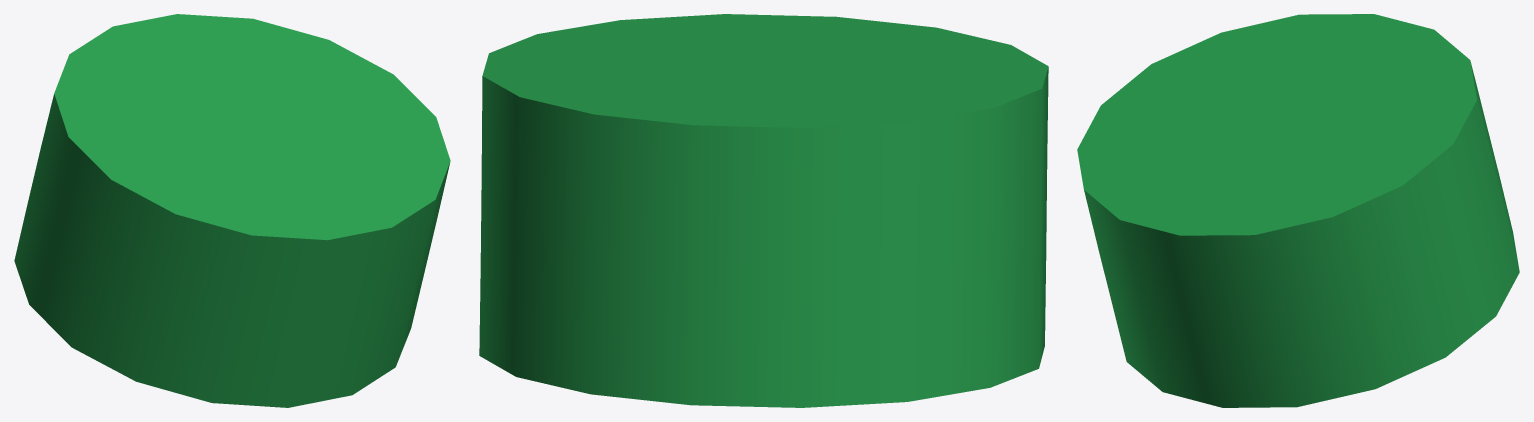
File: button3.obj
The picture shows the model from 3 angles, left to right: view 1: azimuth 30°, elevation 25°; view 2: azimuth 150°, elevation 25°; view 3: azimuth 270°, elevation 25°; orthographic projection. The views are drawn at different scales.
Visible parts, largest first — view 1: button3; view 2: button3; view 3: button3.
Part boxes in pixels (x1,y1,x2,y2): button3: (14,14,450,407); button3: (479,14,1048,407); button3: (1077,14,1519,407).
Size of the model in its own units: 0.0831 by 0.0572 by 0.086.
Materials: 1 (1 with a texture image).
